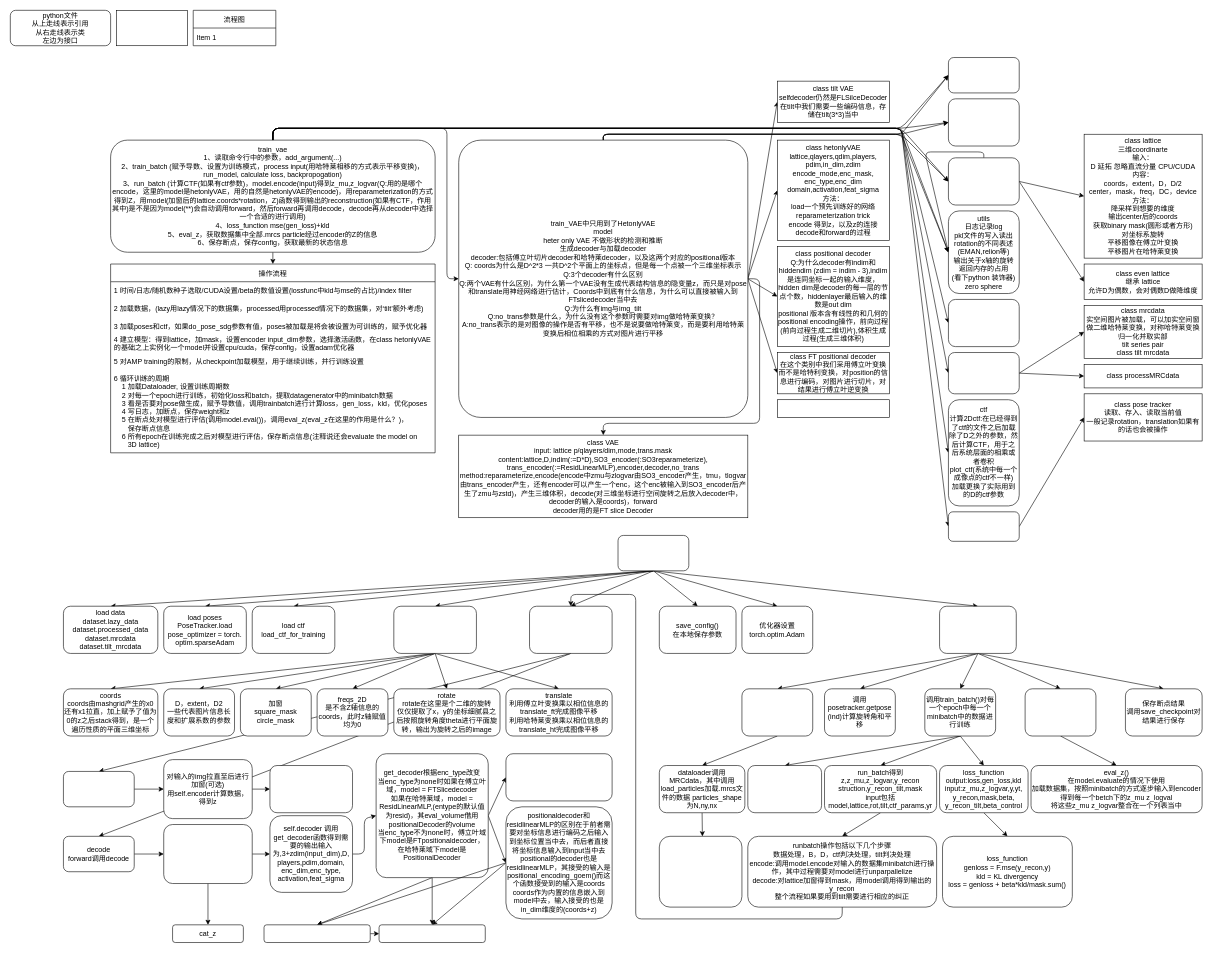
Image size: 1212x953. Some labels were removed from this diagram. The shapes that lost their labels are listed below. From the top down, each one's centre as x and y in pixels, then its label:
At [151,28]: "class，记录输入输出与内部调用method".
At [983,75]: "fft 傅立叶变换，哈特莱变换以及对称哈特莱变换".
At [983,122]: "lie tools 三维旋转对称群在矩阵与四元函数之间的转换，对数求和以及SO3高斯分布的熵".
At [983,181]: "lattice 从utils中引用了log 包含class lattice和class even lattice".
At [983,323]: "mrc类型的文件都有一个header，记录一些必要信息，读取图像，lazy读取图像，apix，origin".
At [983,373]: "dataset load_particle函数读取.star/.txt/.mrcs文件 (lazy)MRCdata".
At [833,408]: "class FT slice decoder".
At [983,526]: "pose 读取、存入、读取当前值".
At [653,553]: "main".
At [434,629]: "lattice 实例化Lattice 设置lattice类中的参数配置，调其中的get_circular_mask()函数".
At [570,629]: "model 实例化 hetonlyVAE".
At [977,629]: "train_loop".
At [777,712]: "dataloader 调用官方库，将处理好的数据加载成可调用的minibatch".
At [1060,712]: "调用eval_z() 生成z_mu z_logvar".
At [98,789]: "encode".
At [311,789]: "根据encode_mode选用合适的encoder作为self.encoder 可选的包括conv，resid，mlp，tilt".
At [558,777]: "在哈特莱域会计算eval_volume() 它接受的input包括coords,D,extent,norm.zval 产生实空间域的output体积".
At [784,789]: "preprocess_input 将输入按照lattice坐标中的translate_ht进行平移变换，平移长度已经给出".
At [207,854]: "decode调用self.decoder 计算数据，其输入是coords和z的合并".
At [700,871]: "dataloader在此之后加载出的数据 batch序号(-1) 展开后的image(0),展开后的image_tilt(1)".
At [316,933]: "positional_encoding_goem".
At [431,933]: "positional_encoding_linear".
